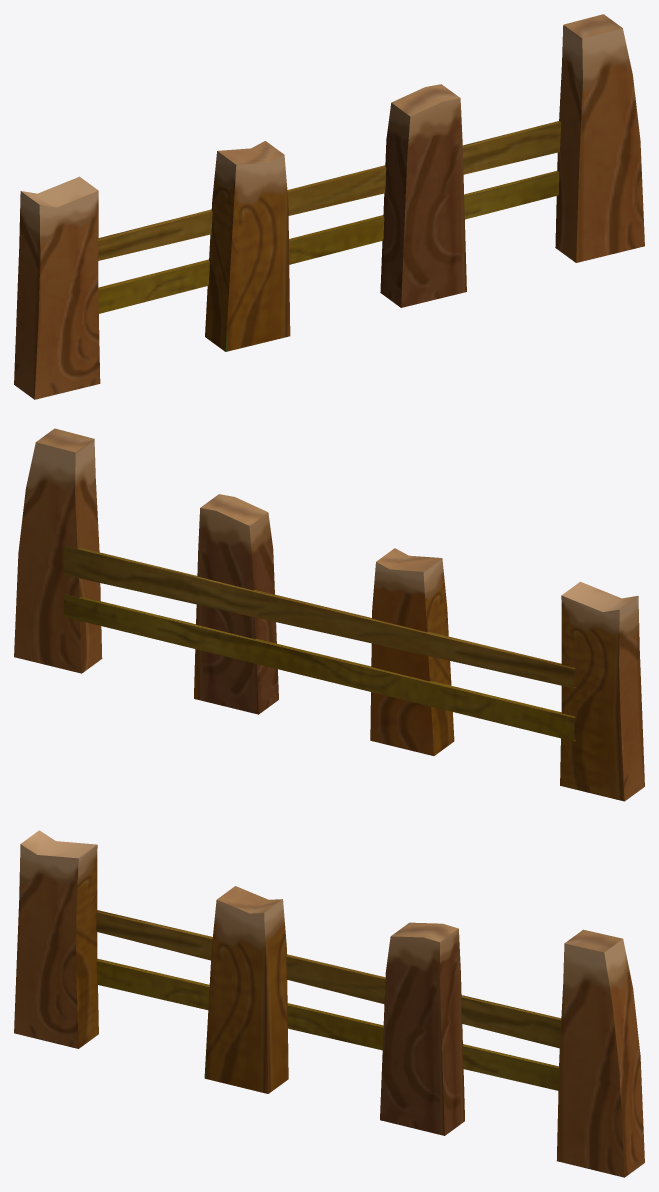
File: Fence_03.FBX
3 renders of one model, top to bottom at view 1: azimuth 30°, elevation 25°; view 2: azimuth 150°, elevation 25°; view 3: azimuth 330°, elevation 25°, orthographic.
Parts seen in each view (by area): view 1: fence_03; view 2: fence_03; view 3: fence_03.
Part boxes in pixels (x1,y1,x2,y2): fence_03: (14,14,644,399); fence_03: (14,428,644,801); fence_03: (14,830,644,1177).
Size of the model in its own units: 135 by 46.67 by 10.03.
